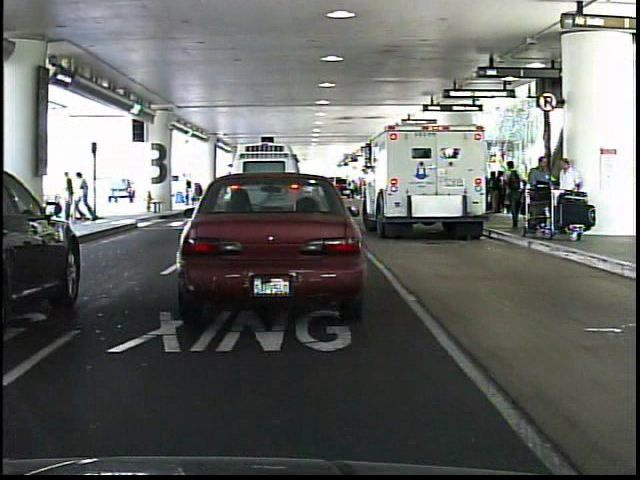person: (58, 168, 79, 224), (74, 167, 95, 222)
